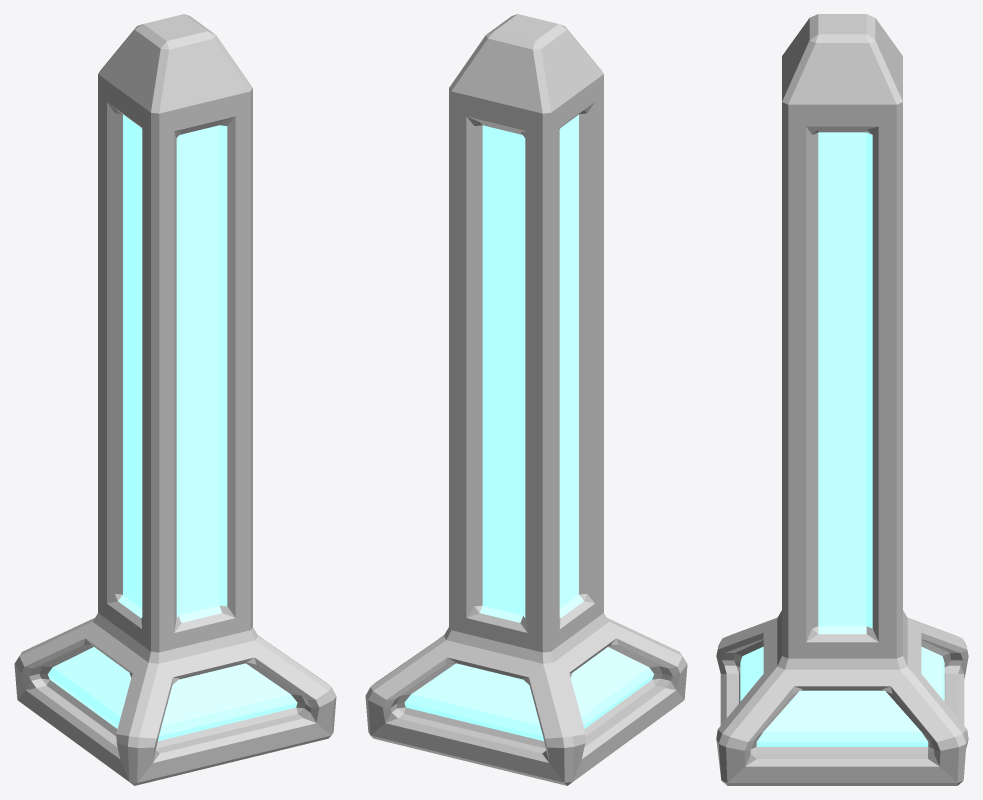
Rendered from PoteauBarrière.fbx.
3 views of the same model, side by side, from view 1: azimuth 30°, elevation 25°; view 2: azimuth 150°, elevation 25°; view 3: azimuth 270°, elevation 25° (orthographic). The views are drawn at different scales.
Visible parts, largest first — view 1: PoteauBarrière; view 2: PoteauBarrière; view 3: PoteauBarrière.
Part boxes in pixels (left/top/right/bottom): PoteauBarrière: left=14, top=14, right=336, bottom=785; PoteauBarrière: left=365, top=14, right=687, bottom=785; PoteauBarrière: left=716, top=14, right=968, bottom=785.
Bounding box in the file's own units: 41.69 × 130 × 41.69.
